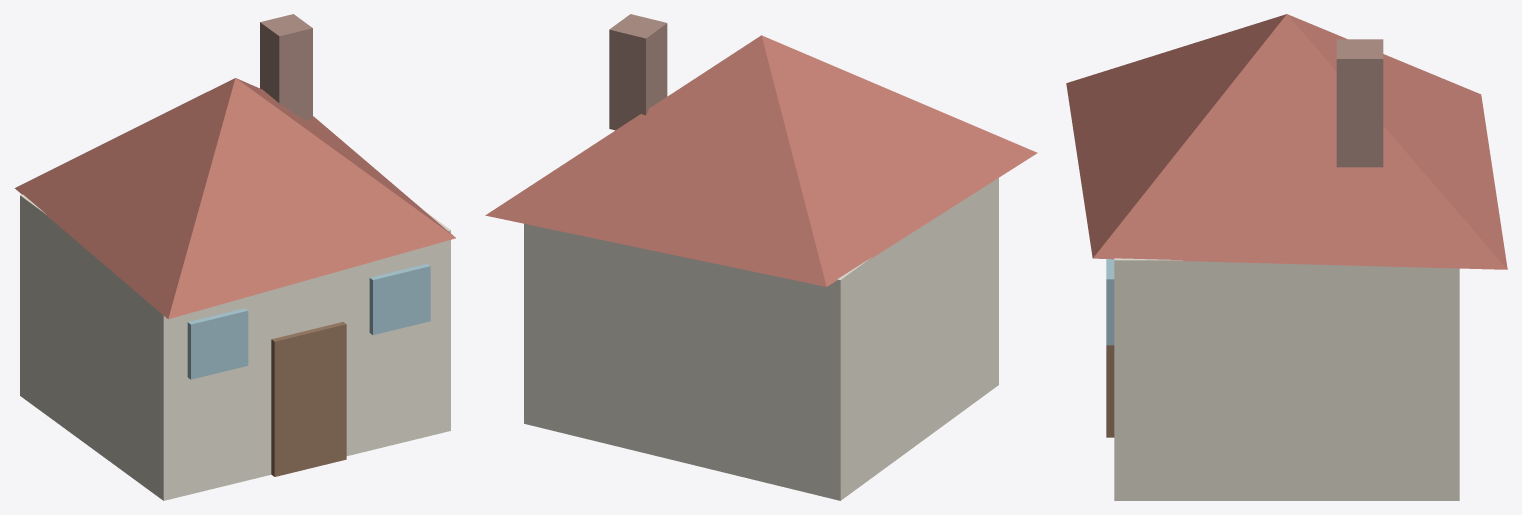
The model's file is casa.glb.
The picture shows the model from 3 angles, left to right: view 1: azimuth 30°, elevation 25°; view 2: azimuth 150°, elevation 25°; view 3: azimuth 270°, elevation 25°; orthographic projection. The views are drawn at different scales.
Visible parts, largest first — view 1: casa; view 2: casa; view 3: casa.
Boxes of the visible parts, left/top/right/bottom form: casa: left=14, top=14, right=455, bottom=500; casa: left=485, top=14, right=1037, bottom=500; casa: left=1066, top=14, right=1507, bottom=500.
Size of the model in its own units: 2.19 by 2.28 by 2.19.
